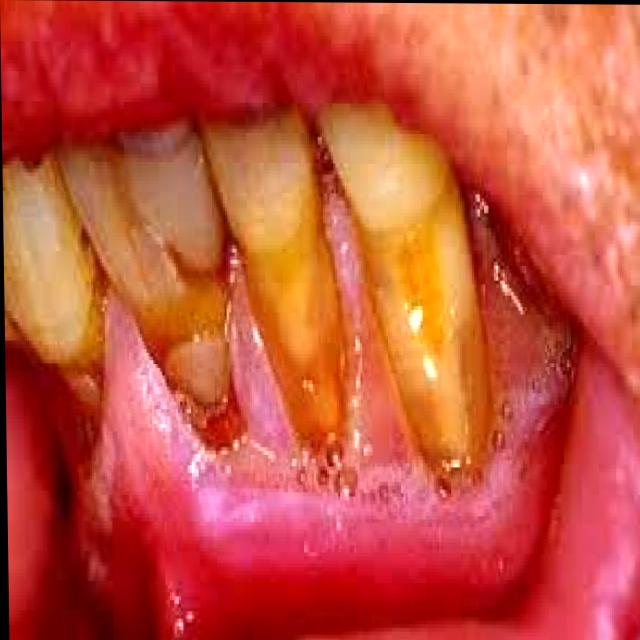tooth-discoloration: (3, 144, 491, 479)
